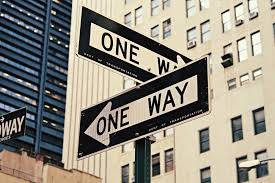oneWay: (77, 57, 212, 166), (82, 4, 212, 78)
